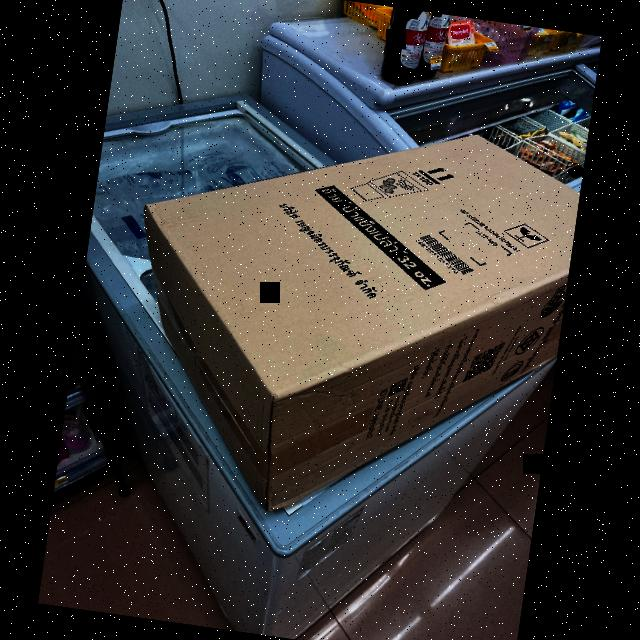cardboard_box: (103, 90, 584, 546)
